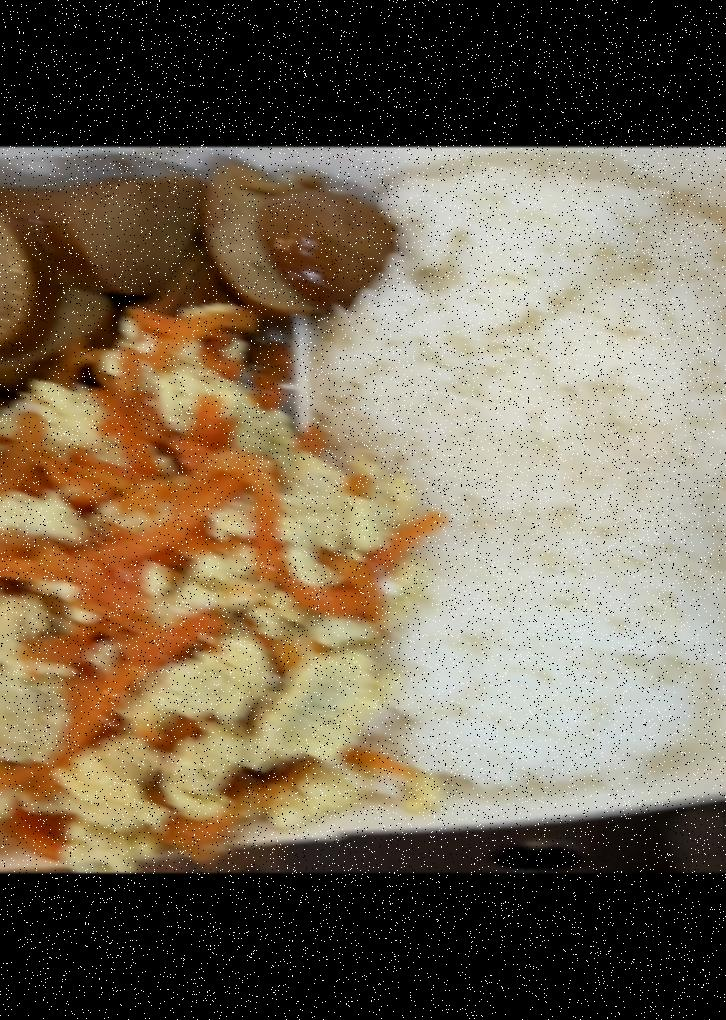box: (0, 147, 726, 837)
side dish: (0, 339, 423, 850), (0, 162, 390, 388)
white rice: (353, 166, 726, 782)
